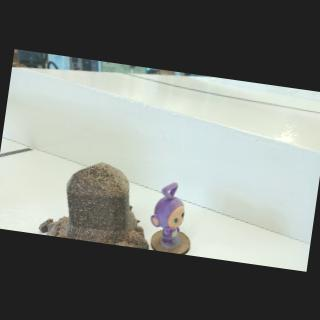teletubby: (150, 182, 184, 244)
